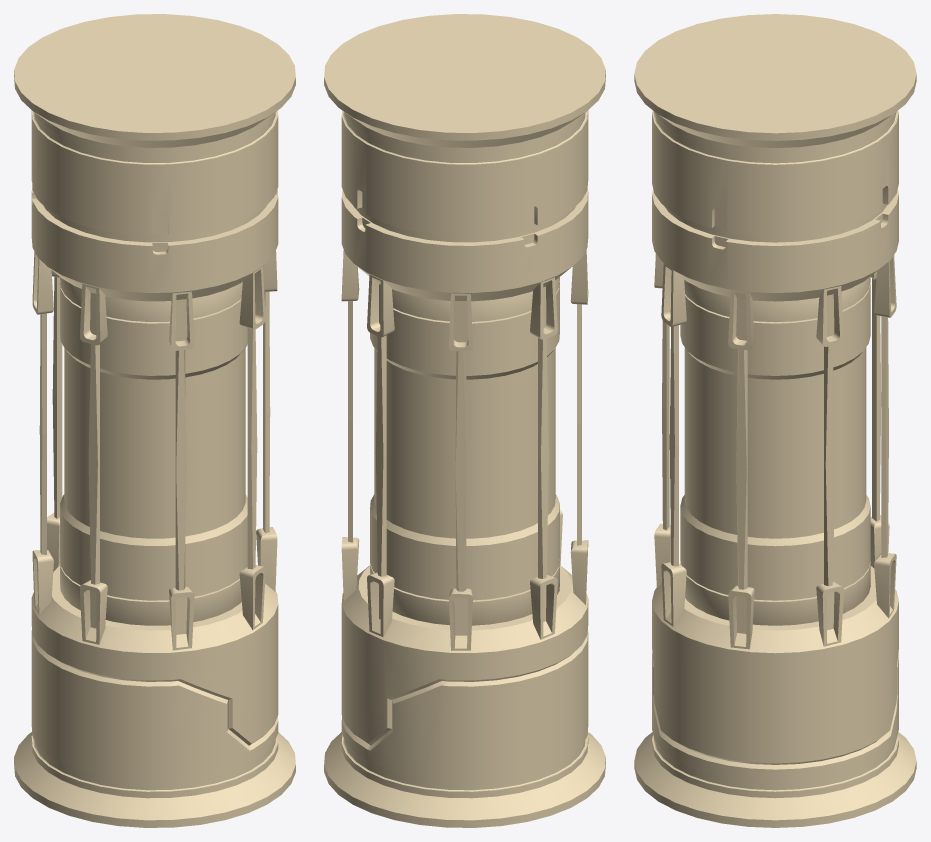
The model's file is cargo_box5.fbx.
3 views of the same model, side by side, from view 1: azimuth 30°, elevation 25°; view 2: azimuth 150°, elevation 25°; view 3: azimuth 270°, elevation 25° (orthographic).
Visible parts, largest first — view 1: Cylinder.006, Cylinder.004, Slice, Cylinder.003; view 2: Cylinder.006, Cylinder.004, Slice, Cylinder.003; view 3: Cylinder.006, Slice, Cylinder.004, Cylinder.003.
Part boxes in pixels (bbox=[...]): Cylinder.006: bbox=[14, 14, 295, 301]; Cylinder.004: bbox=[60, 277, 247, 625]; Slice: bbox=[31, 251, 278, 745]; Cylinder.003: bbox=[14, 631, 295, 827]; Cylinder.006: bbox=[324, 14, 605, 301]; Cylinder.004: bbox=[370, 277, 559, 625]; Slice: bbox=[341, 250, 588, 745]; Cylinder.003: bbox=[324, 631, 605, 827]; Cylinder.006: bbox=[634, 14, 916, 301]; Slice: bbox=[652, 254, 898, 764]; Cylinder.004: bbox=[680, 276, 870, 625]; Cylinder.003: bbox=[634, 653, 916, 827].
Bounding box in the file's own units: 59.96 × 163 × 59.96.
